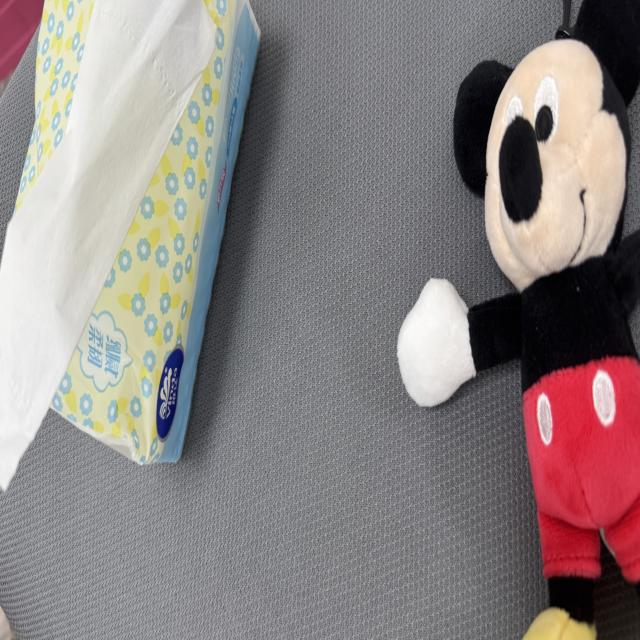mickey: (398, 0, 639, 639)
tissue: (0, 0, 263, 490)
